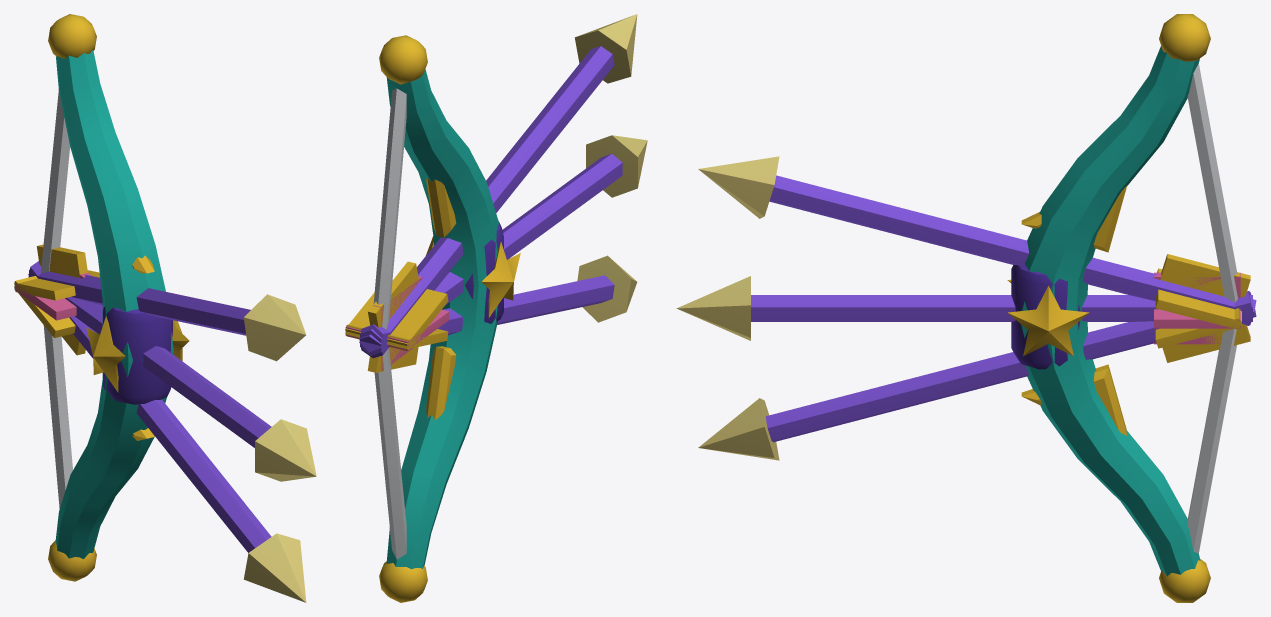
Rendered from w_y_swarm.glb.
3 renders of one model, left to right at view 1: azimuth 30°, elevation 25°; view 2: azimuth 150°, elevation 25°; view 3: azimuth 270°, elevation 25°, orthographic. The views are drawn at different scales.
Parts seen in each view (by area): view 1: body; view 2: body; view 3: body.
Part boxes in pixels (<box>): body: <box>14,14,316,602</box>; body: <box>345,14,647,602</box>; body: <box>676,14,1256,602</box>.
Bounding box in the file's own units: 0.1218 × 0.7308 × 0.6548.
